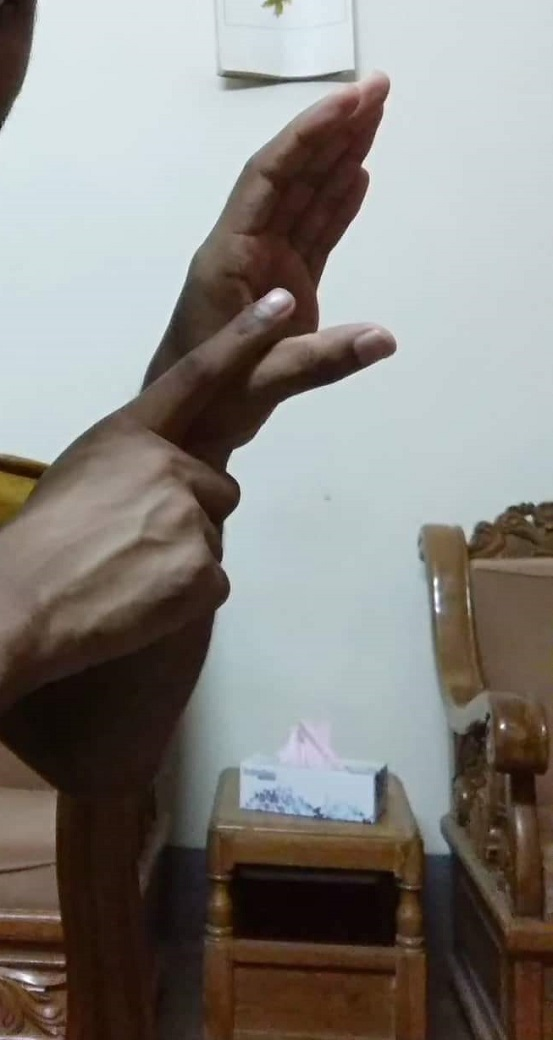dh: (142, 72, 390, 650)
